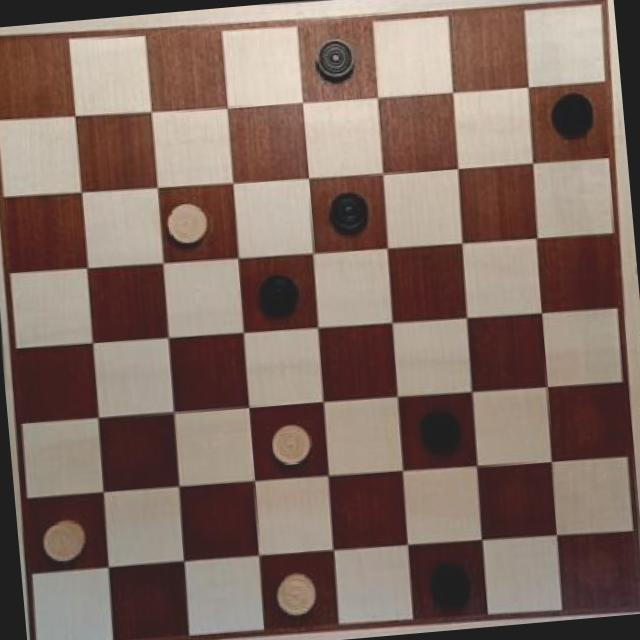BOARD: (0, 0, 640, 640)
black: (410, 401, 470, 463), (322, 182, 376, 240), (308, 27, 360, 86), (423, 553, 474, 611), (248, 270, 305, 320), (548, 88, 596, 139)
white: (269, 562, 323, 624), (262, 415, 314, 470), (163, 200, 210, 246), (41, 518, 88, 562)
